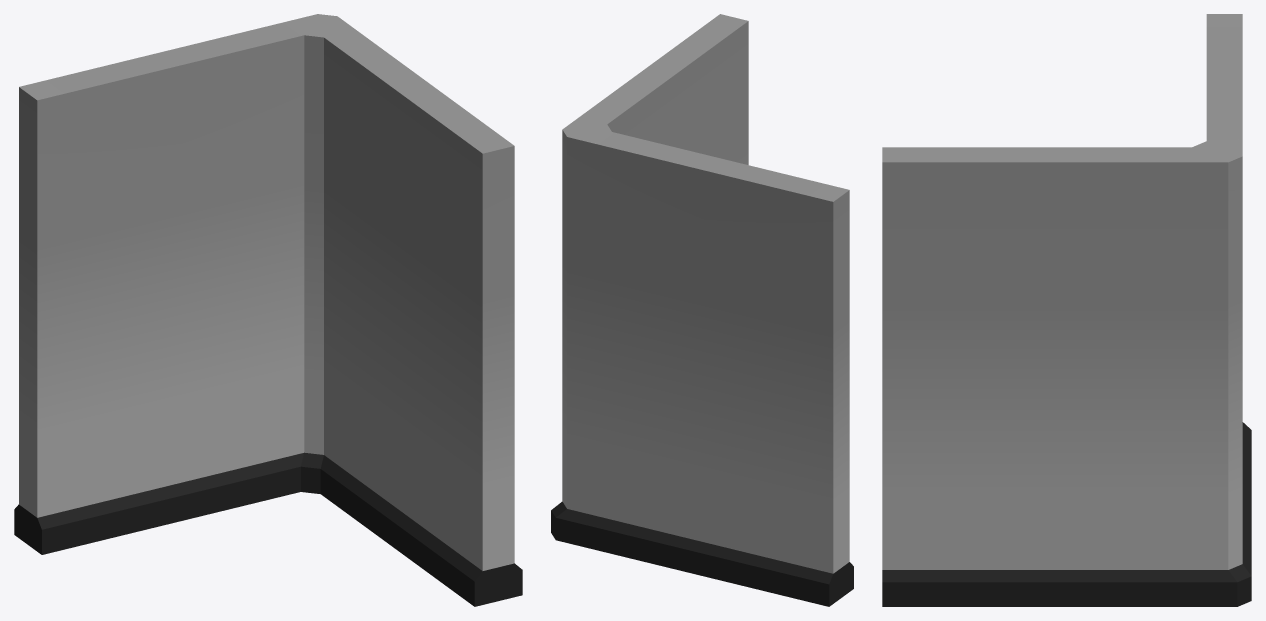
Rendered from CornerWall.glb.
The picture shows the model from 3 angles, left to right: view 1: azimuth 30°, elevation 25°; view 2: azimuth 150°, elevation 25°; view 3: azimuth 270°, elevation 25°; orthographic projection. The views are drawn at different scales.
Parts seen in each view (by area): view 1: Corner Wall.001; view 2: Corner Wall.001; view 3: Corner Wall.001.
Boxes of the visible parts, box(x1,y1,x2,y2) form: Corner Wall.001: box(14, 14, 522, 606); Corner Wall.001: box(551, 14, 853, 606); Corner Wall.001: box(882, 14, 1251, 606).
Size of the model in its own units: 2 by 2.7 by 2.05.
1 material, 1 textured.
